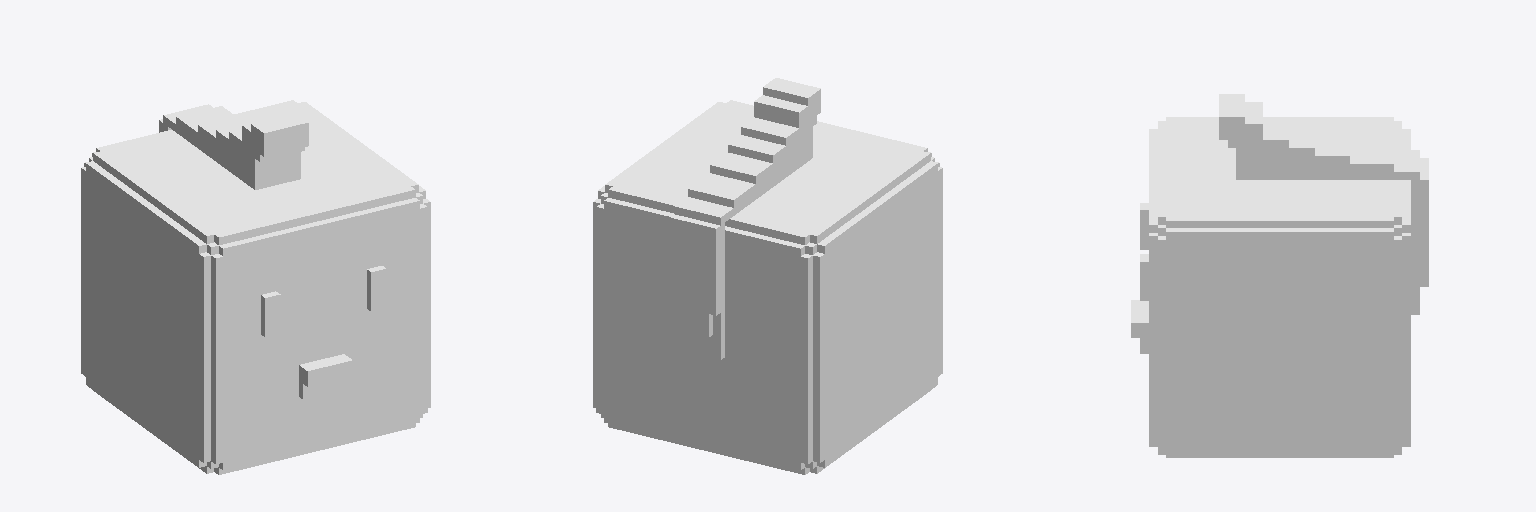
File: ChickenMan.obj
3 views of the same model, side by side, from view 1: azimuth 30°, elevation 25°; view 2: azimuth 150°, elevation 25°; view 3: azimuth 270°, elevation 25° (orthographic).
Parts seen in each view (by area): view 1: ChickenMan; view 2: ChickenMan; view 3: ChickenMan.
Part boxes in pixels (x1,y1,x2,y2): ChickenMan: (81,100,430,474); ChickenMan: (593,78,942,474); ChickenMan: (1131,94,1428,457).
Bounding box in the file's own units: 30 × 38 × 34.